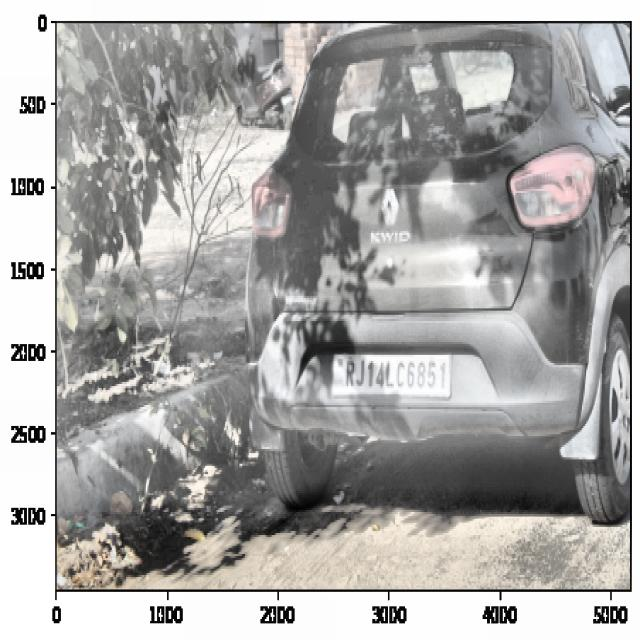license_plate: (341, 354, 452, 395)
